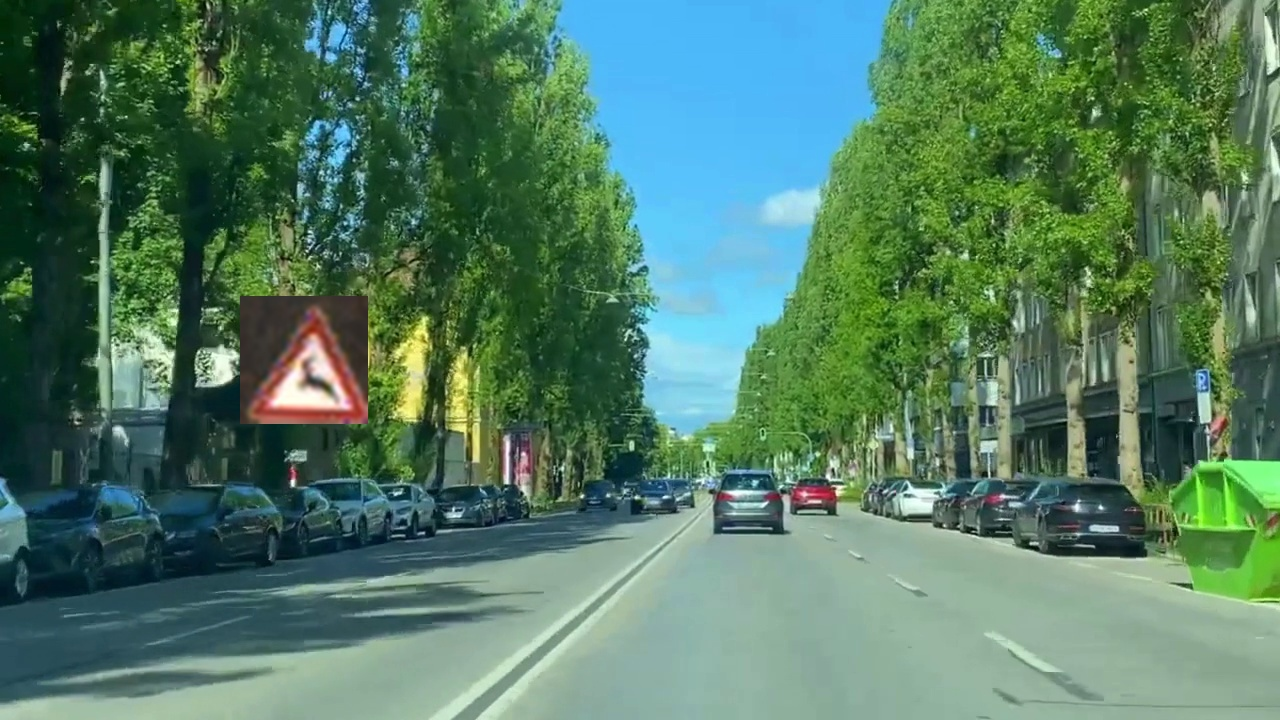Wild animals: (240, 296, 368, 424)
